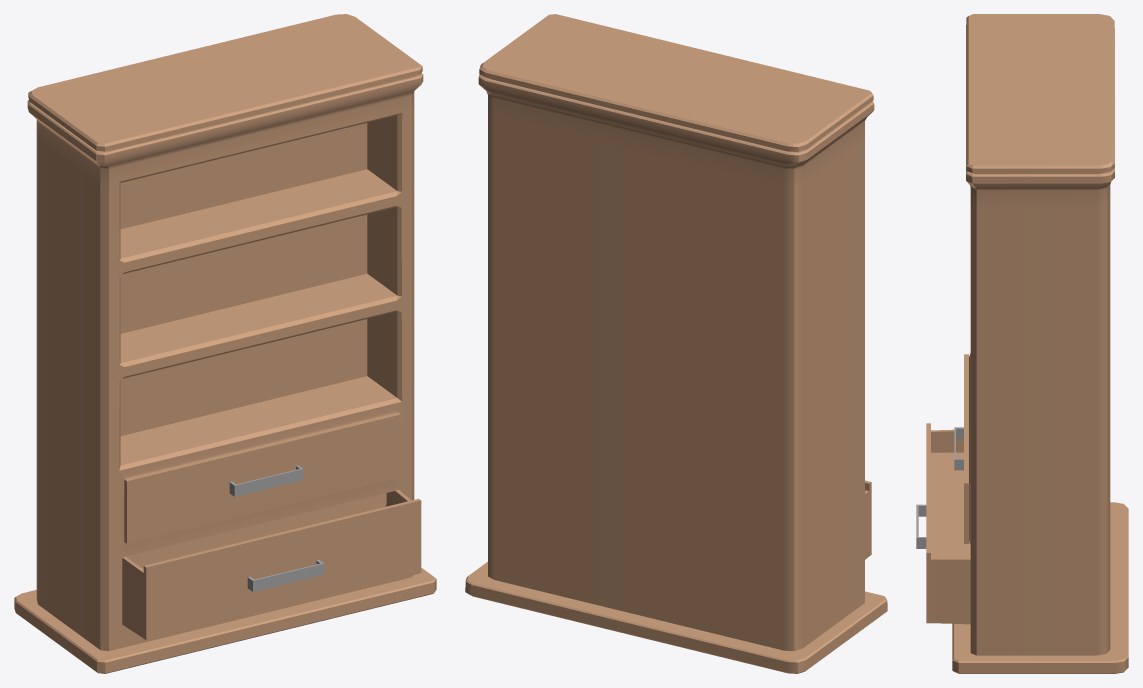
The model's file is SM_Book Shelf_1.fbx.
The picture shows the model from 3 angles, left to right: view 1: azimuth 30°, elevation 25°; view 2: azimuth 150°, elevation 25°; view 3: azimuth 270°, elevation 25°; orthographic projection. The views are drawn at different scales.
Visible parts, largest first — view 1: Book_Shelf_2; view 2: Book_Shelf_2; view 3: Book_Shelf_2.
Part boxes in pixels (x1,y1,x2,y2): Book_Shelf_2: [14, 14, 436, 673]; Book_Shelf_2: [465, 14, 887, 673]; Book_Shelf_2: [916, 14, 1128, 673].
Bounding box in the file's own units: 2.71 × 3.99 × 1.52.
